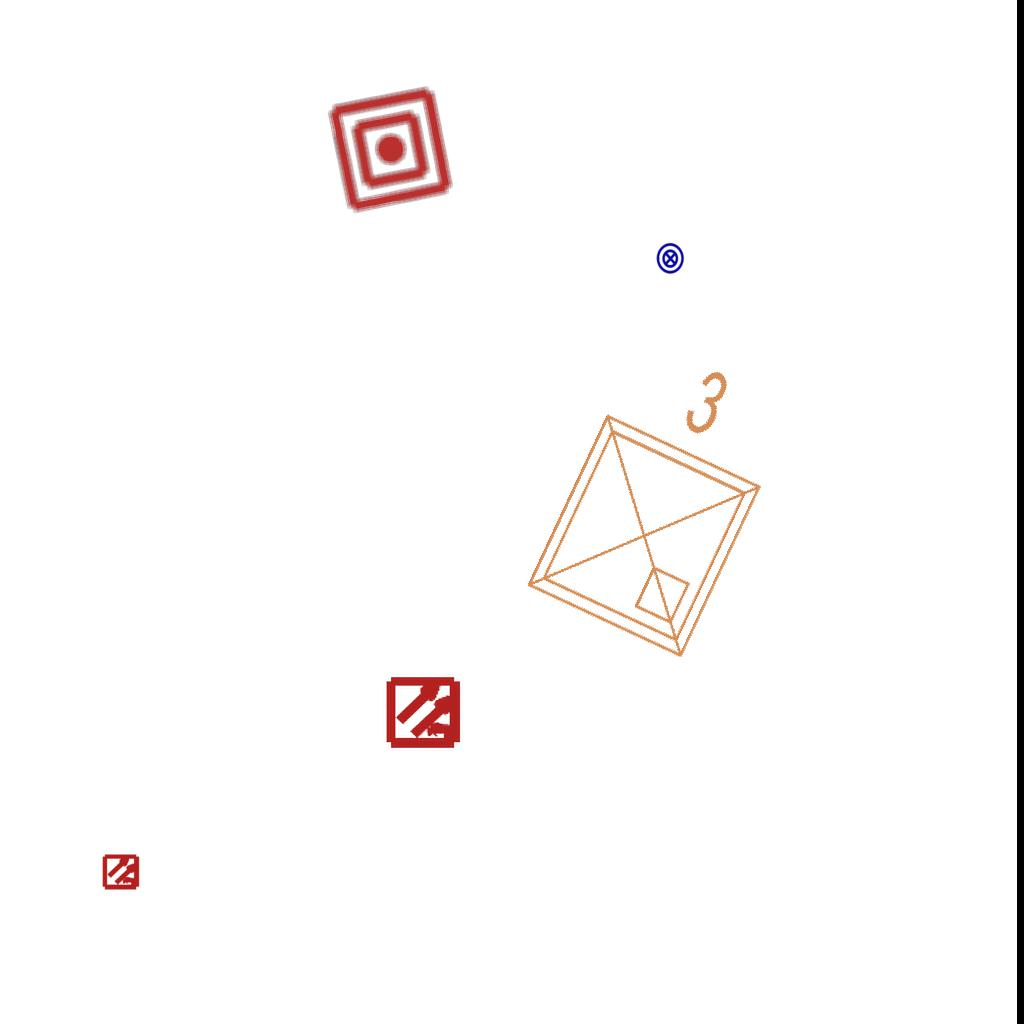Einbaudownlights_LED_Konferenzraeume: (500, 317, 816, 677)
NAM-Nichtautomatischer_Melder: (324, 83, 457, 216)
OT_Multisensormelder_(Kombination_RMO_WMD): (369, 656, 482, 769), (94, 844, 150, 900)
Taster_beleuchtet: (654, 242, 687, 275)
